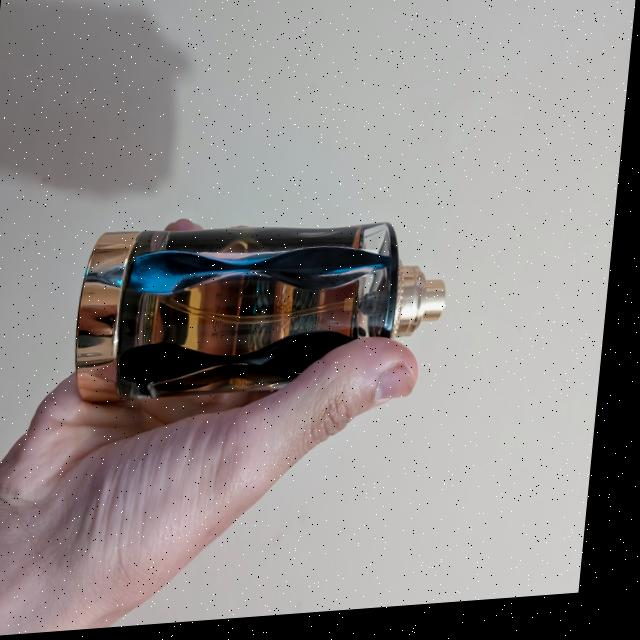Teriaq-Intense: (74, 210, 461, 415)
